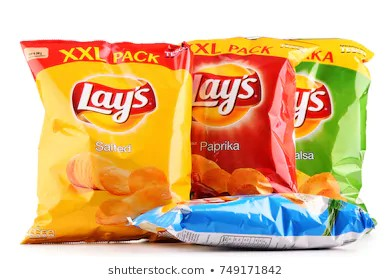lays-large: (21, 35, 186, 241), (279, 42, 378, 200), (192, 34, 282, 205)
